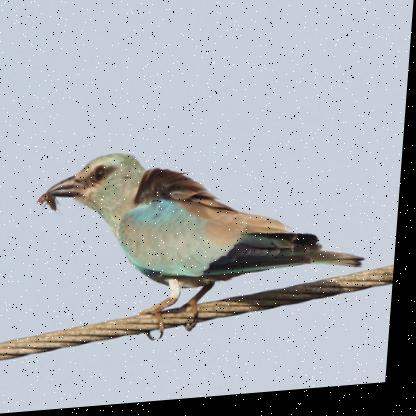Burung: (35, 138, 374, 348)
